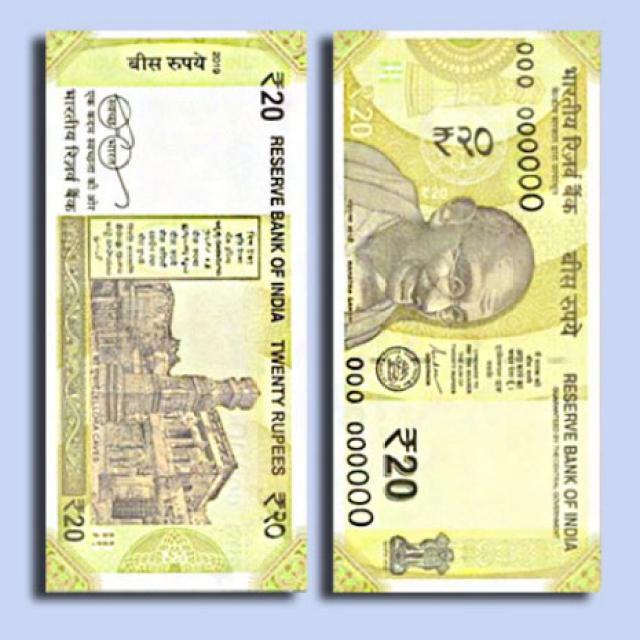20IndianRupees: (45, 31, 306, 587)
